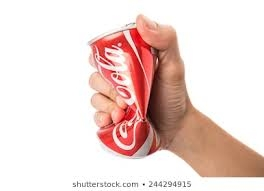metal: (82, 18, 177, 165)
